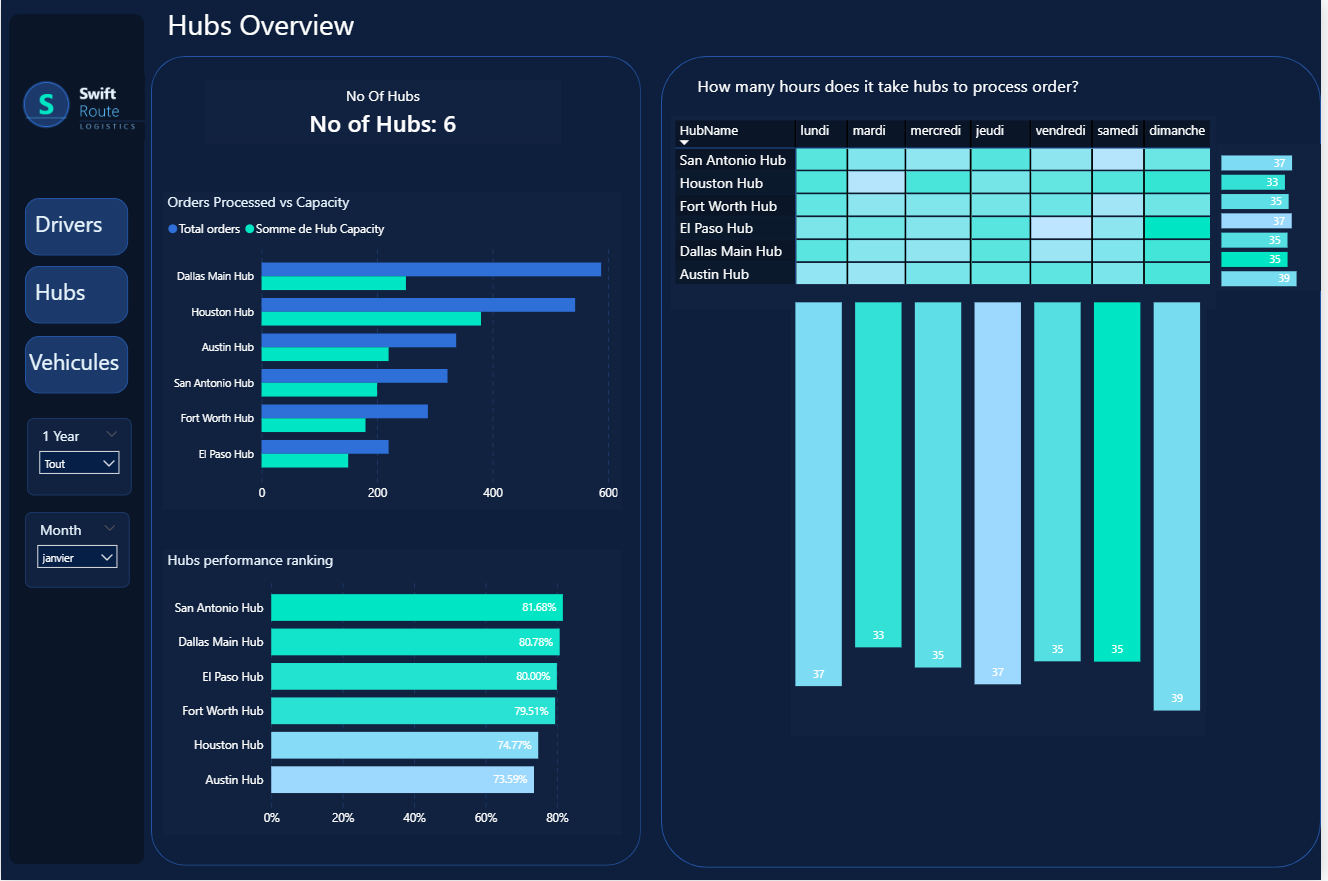

The page's visual inventory and layout, read from the dashboard file:
{"tool":"powerbi","page":{"name":"Hubs ","canvas":[1500,1000],"ordinal":2},"visuals":[{"type":"shape","box":[9.3,16.3,153.7,966.6],"z":0},{"type":"textbox","box":[184.3,0,498.6,62.9],"z":1000},{"type":"slicer","fields":{"Values":["Date.1 Year"]},"box":[29.3,474.1,119,87.9],"z":2000},{"type":"slicer","fields":{"Values":["Date.Month"]},"box":[27.6,581,119,86.2],"z":3000},{"type":"shape","box":[170,62.9,556.7,920],"z":4000},{"type":"shape","box":[750,62.9,750,922.4],"z":5000},{"type":"clusteredBarChart","title":"Orders Processed vs Capacity","fields":{"Category":["Hubs.HubName"],"Y":["Table.Total orders","Sum(Hubs.Hub Capacity)"]},"box":[184,218.9,521.7,361],"z":6000},{"type":"clusteredBarChart","title":"Hubs performance ranking","fields":{"Category":["Hubs.HubName"],"Y":["Table.On Time Delivery Rate"]},"box":[184,624.2,521.7,323.8],"z":7000},{"type":"pivotTable","fields":{"Rows":["Hubs.HubName"],"Columns":["Date.days"],"Values":["Table.Avg Delivery Time Hrs"]},"box":[761.4,132.9,620,220],"z":8000},{"type":"columnChart","fields":{"Category":["Date.days"],"Y":["Table.Avg Delivery Time Hrs"]},"box":[898.6,330,471.4,507.1],"z":9000},{"type":"barChart","fields":{"Category":["Date.days"],"Y":["Table.Avg Delivery Time Hrs"]},"box":[1381.4,162.9,118.6,167.1],"z":10000},{"type":"textbox","box":[785.7,80,548.6,38.6],"z":11000},{"type":"shape","box":[26.9,301.9,117.3,65.4],"z":12000},{"type":"actionButton","title":"Hubs","box":[38.5,313.5,100,40.4],"z":13000},{"type":"shape","box":[26.9,225,117.3,65.4],"z":14000},{"type":"actionButton","title":"Drivers","box":[38.5,236.5,100,40.4],"z":15000},{"type":"shape","box":[26.9,380.8,117.3,65.4],"z":16000},{"type":"actionButton","title":"Vehicules","box":[32.7,394.2,111.5,40.4],"z":17000},{"type":"cardVisual","fields":{"Data":["Table.No Of Hubs"]},"box":[231.8,90.9,404.5,72.7],"z":18000},{"type":"image","box":[9.1,25,154.5,193.2],"z":19000}]}

Visuals, with their boxes in screenshot pixels (x1, y1, x2, y2), scaled from the page's 1500x1000 canvas onto the 1328x881 screenshot:
shape: (8,14,144,866)
textbox: (163,0,605,55)
slicer - Date.1 Year: (26,418,131,495)
slicer - Date.Month: (24,512,130,588)
shape: (151,55,643,866)
shape: (664,55,1327,868)
"Orders Processed vs Capacity" clusteredBarChart: (163,193,625,511)
"Hubs performance ranking" clusteredBarChart: (163,550,625,835)
pivotTable - Hubs.HubName x Date.days: (674,117,1223,311)
columnChart - Date.days x Table.Avg Delivery Time Hrs: (796,291,1213,737)
barChart - Date.days x Table.Avg Delivery Time Hrs: (1223,144,1327,291)
textbox: (696,70,1181,104)
shape: (24,266,128,324)
"Hubs" actionButton: (34,276,123,312)
shape: (24,198,128,256)
"Drivers" actionButton: (34,208,123,244)
shape: (24,335,128,393)
"Vehicules" actionButton: (29,347,128,383)
cardVisual - Table.No Of Hubs: (205,80,563,144)
image: (8,22,145,192)
